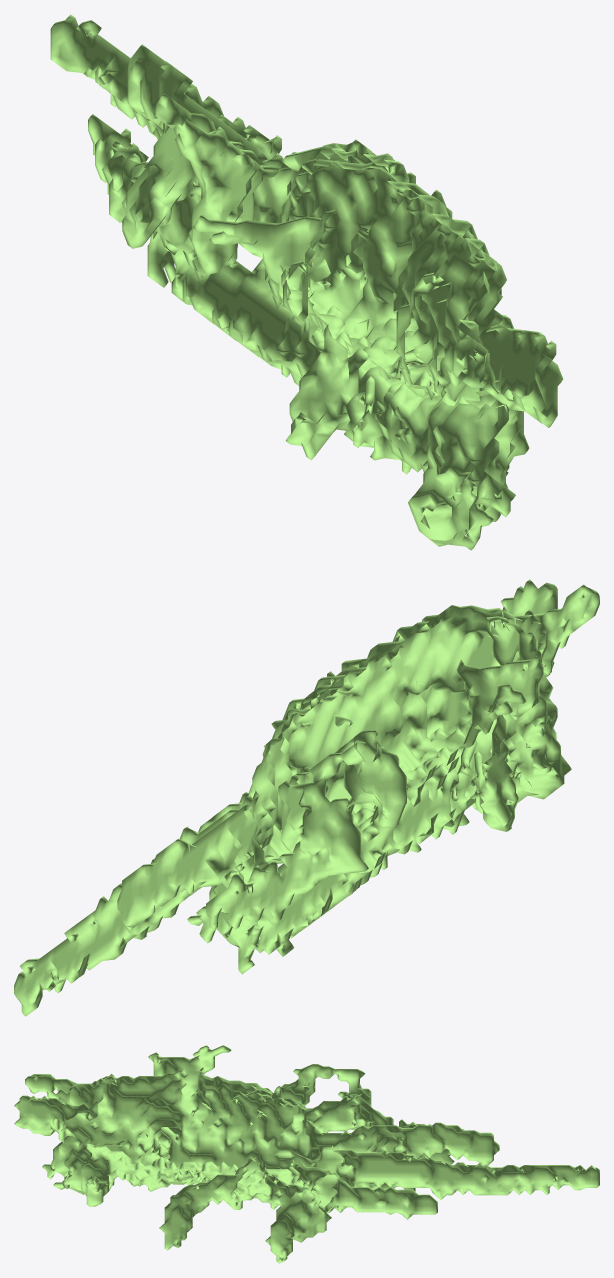
The model's file is osteocyte_140.glb.
3 views of the same model, one above another, from view 1: azimuth 30°, elevation 25°; view 2: azimuth 150°, elevation 25°; view 3: azimuth 270°, elevation 25° (orthographic). The views are drawn at different scales.
Visible parts, largest first — view 1: osteocyte_140; view 2: osteocyte_140; view 3: osteocyte_140.
Part boxes in pixels (bbox=[...]): osteocyte_140: bbox=[50, 14, 563, 550]; osteocyte_140: bbox=[14, 579, 599, 1016]; osteocyte_140: bbox=[14, 1045, 599, 1263].
Size of the model in its own units: 14.93 by 15.41 by 50.55.
